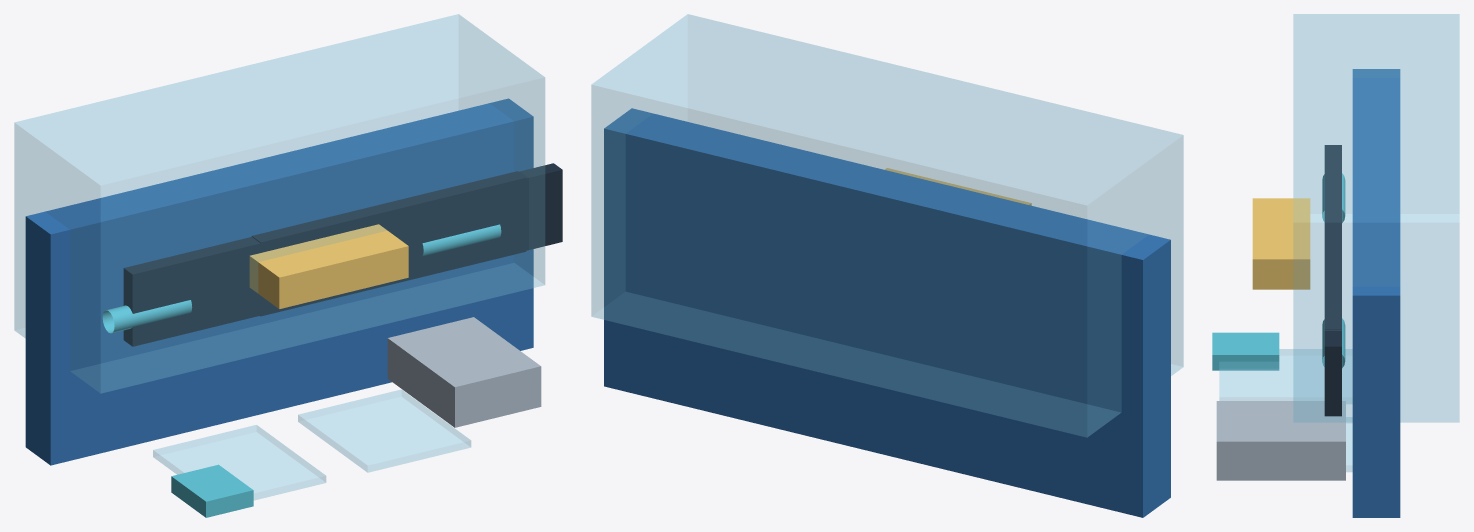
File: s03-two-flap-sealer.gltf
The picture shows the model from 3 angles, left to right: view 1: azimuth 30°, elevation 25°; view 2: azimuth 150°, elevation 25°; view 3: azimuth 270°, elevation 25°; orthographic projection. The views are drawn at different scales.
Visible parts, largest first — view 1: Machine envelope, Base frame, Main conveyor, Electrical cabinet, Infeed conveyor, Product tooling, Service door B, Outfeed conveyor, Service door A, Control panel, Pneumatic cylinder 1, Pneumatic cylinder 2; view 2: Machine envelope, Base frame; view 3: Machine envelope, Base frame, Electrical cabinet, Product tooling, Service door A, Control panel, Main conveyor, Outfeed conveyor, Infeed conveyor, Service door B, Pneumatic cylinder 2, Pneumatic cylinder 1.
Boxes of the visible parts, box(x1,y1,x2,y2) form: Machine envelope: box(14, 14, 544, 393); Base frame: box(25, 98, 533, 465); Main conveyor: box(251, 171, 526, 316); Electrical cabinet: box(387, 317, 541, 427); Infeed conveyor: box(123, 232, 306, 346); Product tooling: box(249, 224, 408, 308); Service door B: box(298, 389, 470, 472); Outfeed conveyor: box(456, 163, 562, 267); Service door A: box(153, 425, 325, 500); Control panel: box(171, 464, 253, 517); Pneumatic cylinder 1: box(102, 300, 192, 333); Pneumatic cylinder 2: box(422, 224, 501, 256); Machine envelope: box(591, 14, 1183, 437); Base frame: box(604, 108, 1170, 517); Machine envelope: box(1293, 14, 1459, 422); Base frame: box(1352, 69, 1400, 517); Electrical cabinet: box(1216, 401, 1345, 480); Product tooling: box(1252, 198, 1310, 289); Service door A: box(1219, 349, 1352, 403); Control panel: box(1212, 332, 1279, 370); Main conveyor: box(1324, 204, 1341, 329); Outfeed conveyor: box(1324, 329, 1341, 416); Infeed conveyor: box(1324, 145, 1341, 204); Service door B: box(1346, 417, 1352, 471); Pneumatic cylinder 2: box(1322, 318, 1345, 368); Pneumatic cylinder 1: box(1322, 173, 1345, 222).
Size of the model in its own units: 5.77 by 3.51 by 2.58.
